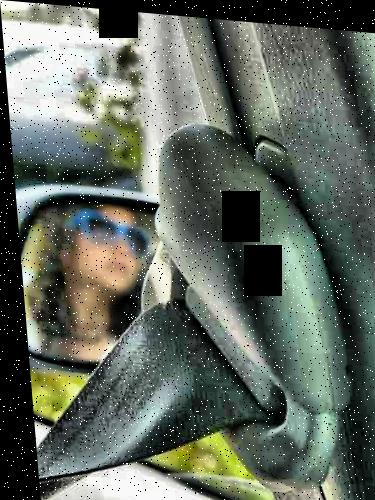seatbelt: (25, 171, 332, 500)
